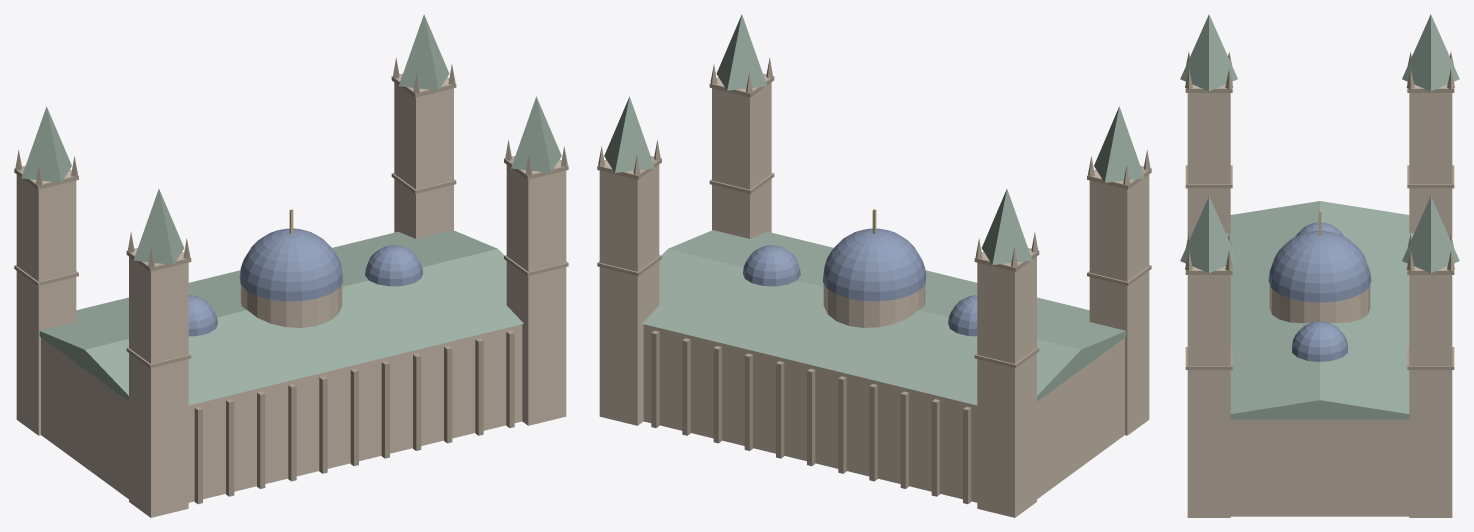
File: pilar.glb
The picture shows the model from 3 angles, left to right: view 1: azimuth 30°, elevation 25°; view 2: azimuth 150°, elevation 25°; view 3: azimuth 270°, elevation 25°; orthographic projection.
Size of the model in its own units: 136 by 96 by 77.76.
